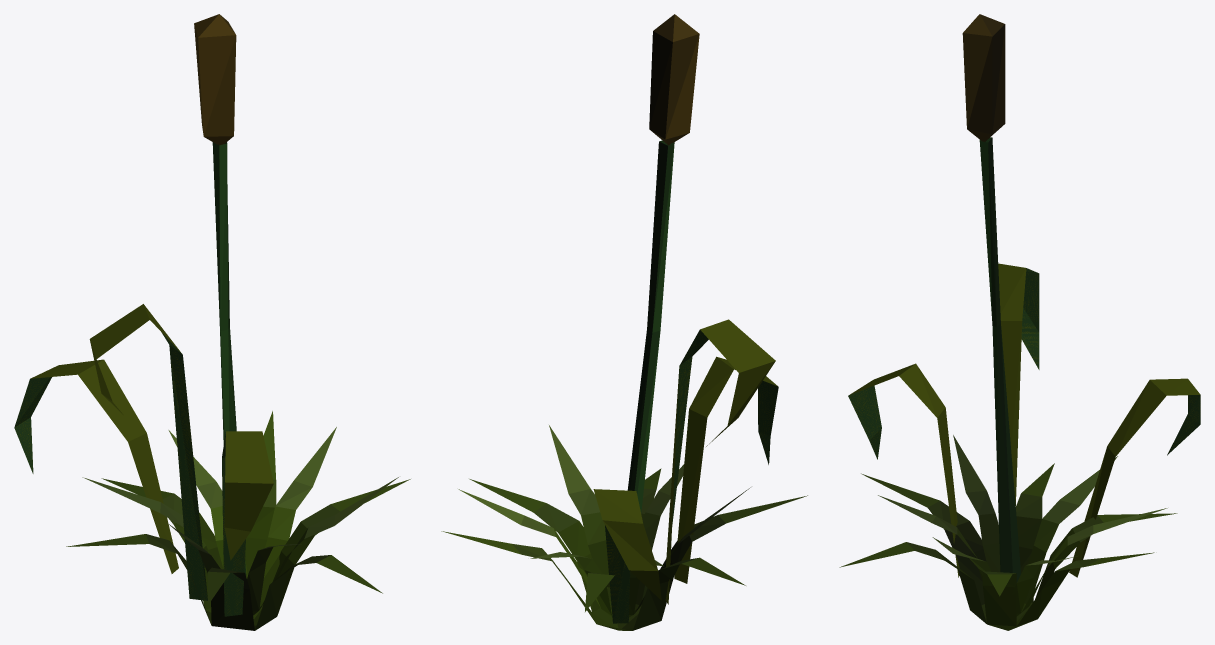
File: reed.obj
3 views of the same model, side by side, from view 1: azimuth 30°, elevation 25°; view 2: azimuth 150°, elevation 25°; view 3: azimuth 270°, elevation 25° (orthographic). The views are drawn at different scales.
Visible parts, largest first — view 1: Object_Bullrushes_2024-03-16_23-20-51, Object_Fern_2024-03-16_23-20-12; view 2: Object_Bullrushes_2024-03-16_23-20-51, Object_Fern_2024-03-16_23-20-12; view 3: Object_Bullrushes_2024-03-16_23-20-51, Object_Fern_2024-03-16_23-20-12.
Boxes of the visible parts, x1,y1,x2,y2 form: Object_Bullrushes_2024-03-16_23-20-51: (14, 14, 273, 616); Object_Fern_2024-03-16_23-20-12: (66, 411, 410, 630); Object_Bullrushes_2024-03-16_23-20-51: (593, 14, 778, 623); Object_Fern_2024-03-16_23-20-12: (441, 425, 807, 630); Object_Bullrushes_2024-03-16_23-20-51: (848, 14, 1200, 582); Object_Fern_2024-03-16_23-20-12: (839, 435, 1177, 630).
Size of the model in its own units: 81 by 155 by 85.29.
